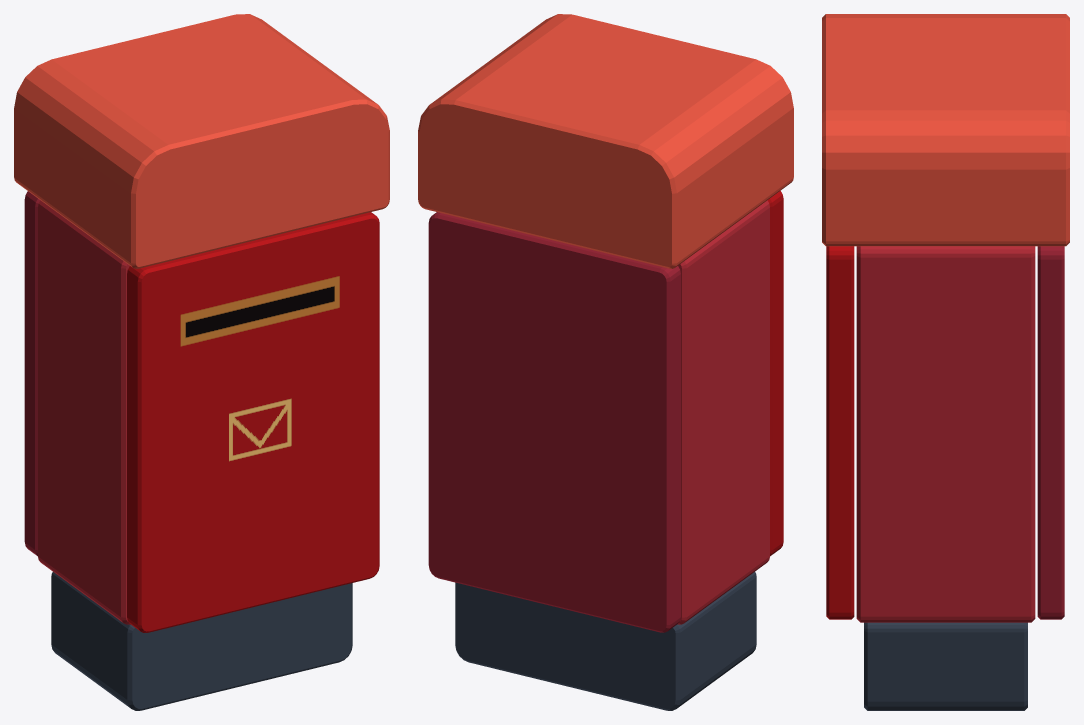
File: MailboxPrototype.glb
3 views of the same model, side by side, from view 1: azimuth 30°, elevation 25°; view 2: azimuth 150°, elevation 25°; view 3: azimuth 270°, elevation 25° (orthographic). The views are drawn at different scales.
Visible parts, largest first — view 1: Part_002_FrontDoor, Part_004_Lid, Part_001_Body, Part_000_Pedestal, Part_003_BackPanel; view 2: Part_003_BackPanel, Part_004_Lid, Part_001_Body, Part_000_Pedestal, Part_002_FrontDoor; view 3: Part_001_Body, Part_004_Lid, Part_000_Pedestal, Part_002_FrontDoor, Part_003_BackPanel.
Part boxes in pixels (left/top/right/bottom): Part_002_FrontDoor: left=127, top=212, right=379, bottom=632; Part_004_Lid: left=14, top=14, right=389, bottom=268; Part_001_Body: left=38, top=200, right=130, bottom=624; Part_000_Pedestal: left=51, top=572, right=352, bottom=710; Part_003_BackPanel: left=24, top=191, right=40, bottom=556; Part_003_BackPanel: left=428, top=212, right=680, bottom=632; Part_004_Lid: left=418, top=14, right=793, bottom=268; Part_001_Body: left=677, top=200, right=769, bottom=624; Part_000_Pedestal: left=455, top=572, right=756, bottom=710; Part_002_FrontDoor: left=767, top=191, right=783, bottom=556; Part_001_Body: left=856, top=246, right=1035, bottom=622; Part_004_Lid: left=822, top=14, right=1069, bottom=246; Part_000_Pedestal: left=864, top=622, right=1027, bottom=710; Part_002_FrontDoor: left=826, top=246, right=854, bottom=619; Part_003_BackPanel: left=1037, top=246, right=1064, bottom=619.
Bounding box in the file's own units: 6.55 × 14 × 5.28.
5 materials, 1 textured.
